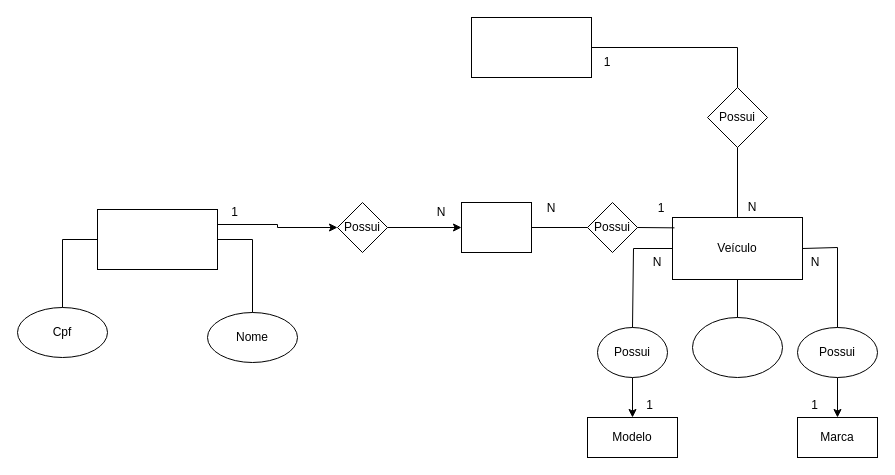
Image size: 895x475. Some labels were removed from this diagram. The centre of each missing label's shape, as x and y in pixels:
Aluguel: pixel 496 227
Cliente: pixel 157 239
Empresa: pixel 531 47
Placa: pixel 737 347
